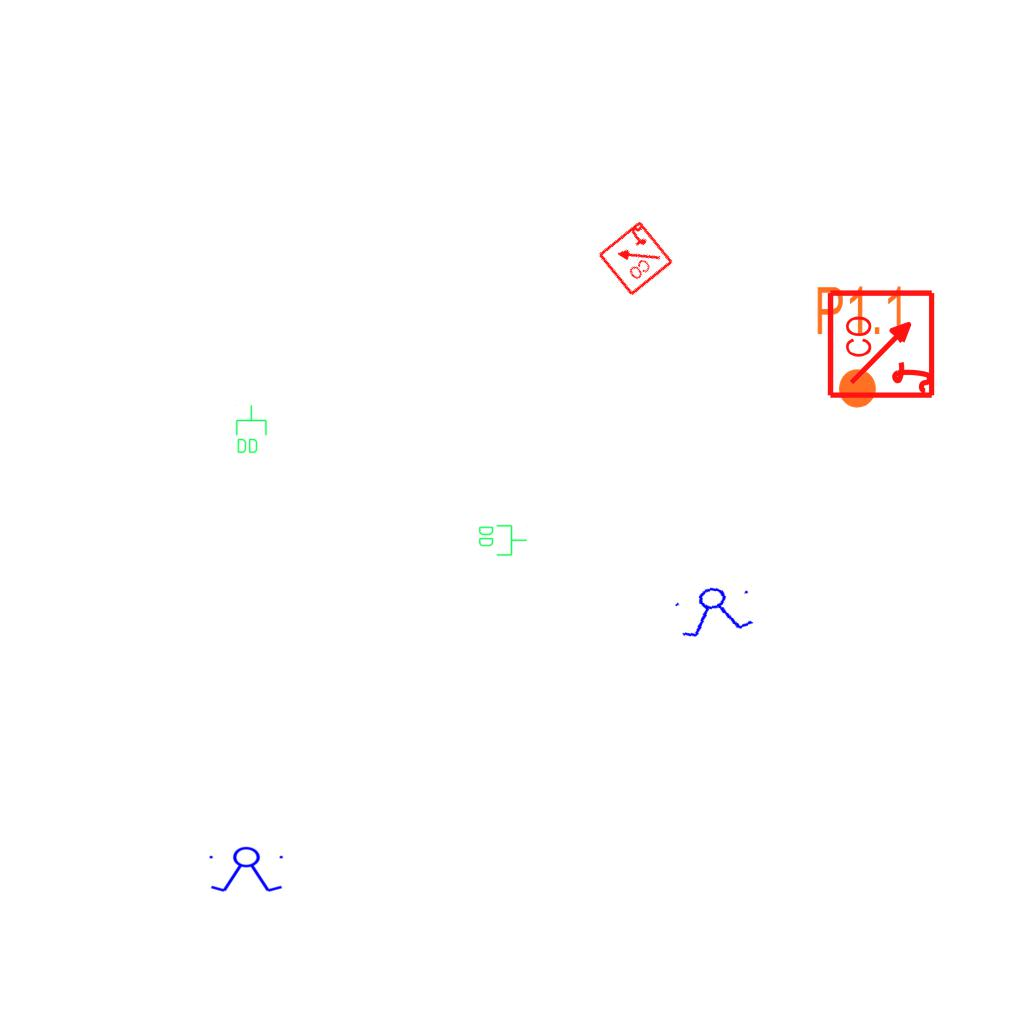Datenanschluss_zweifach: (477, 523, 528, 557), (234, 404, 268, 455)
Downlight_LED_Einbauleuchten_Flur: (814, 283, 907, 411)
ROA_Rauchmelder_optisch_mit_Signalgeber_(Sockelsirene): (826, 287, 939, 400), (595, 218, 675, 298)
Serienschalter: (669, 580, 761, 642), (205, 846, 289, 894)
